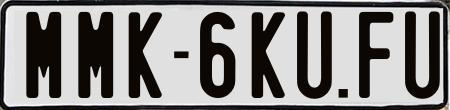6: (197, 11, 232, 100)
F: (358, 11, 393, 102)
K: (252, 12, 288, 103), (126, 9, 161, 98)
M: (78, 12, 117, 100), (26, 11, 64, 98)
U: (297, 11, 334, 105), (405, 11, 434, 99)
